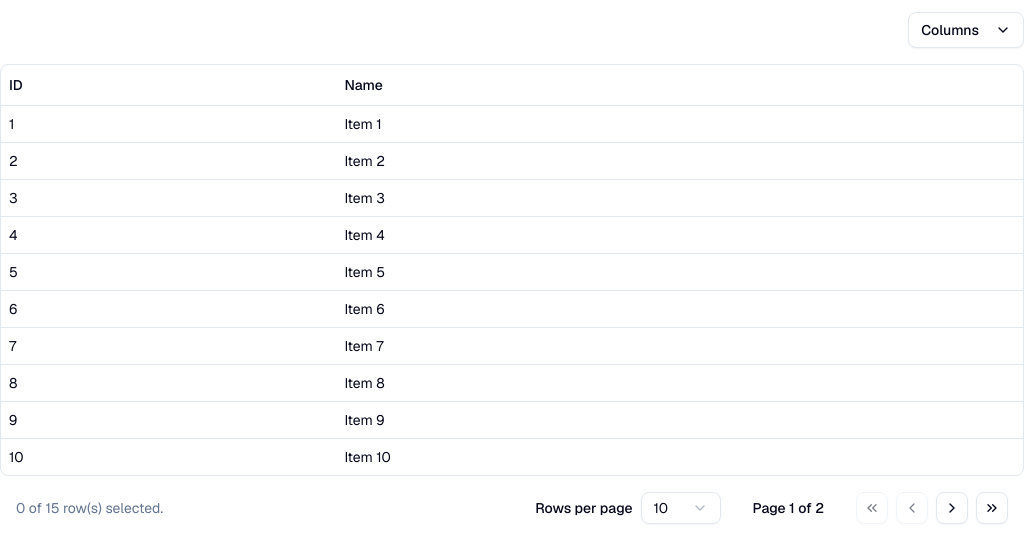
DataTable › pagina os resultados com os controles de primeira/anterior/próxima/última página
The width and height of the screenshot is (1036, 541).
Expected: the text "Page 1 of 2" is shown, x1=753 y1=498 x2=824 y2=518
Expected: the 1st button named "Go to first page" is disabled, x1=856 y1=492 x2=888 y2=524
Click the 3rd button named "Go to next page" at (952, 508), box x1=936 y1=492 x2=968 y2=524
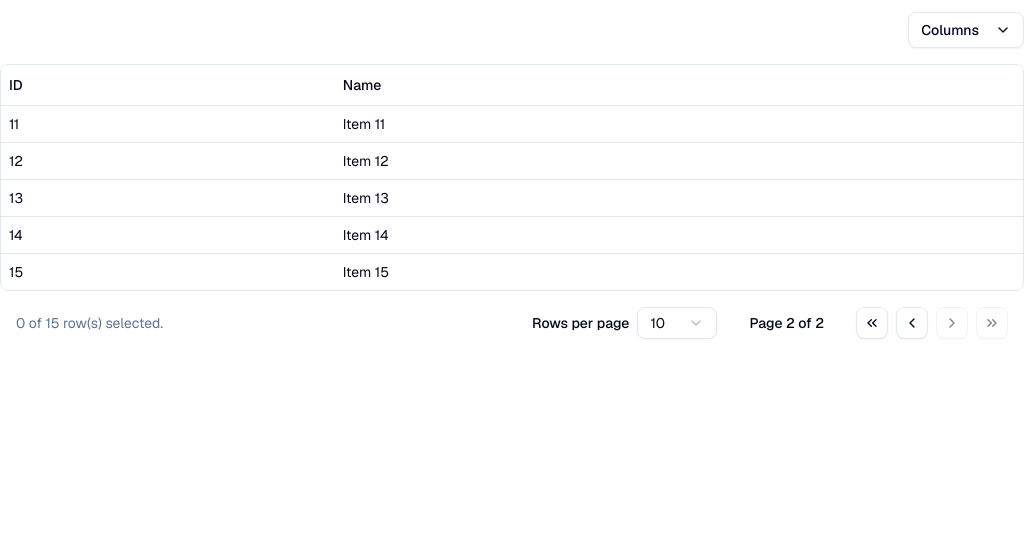
Now the text "Page 2 of 2" is shown, box x1=749 y1=312 x2=824 y2=332
Now the 3rd button named "Go to next page" is disabled, box x1=936 y1=306 x2=968 y2=338
Now the 4th button named "Go to last page" is disabled, box x1=976 y1=306 x2=1008 y2=338
Click the 2nd button named "Go to previous page" at (912, 322), box x1=896 y1=306 x2=928 y2=338
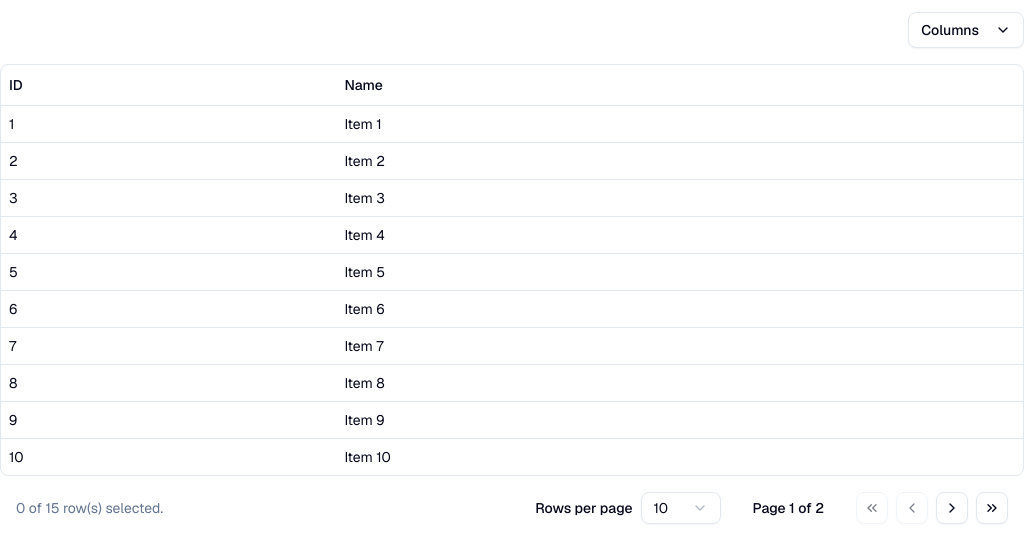
Now the text "Page 1 of 2" is shown, box x1=753 y1=498 x2=824 y2=518
Click the 4th button named "Go to last page" at (992, 508), box x1=976 y1=492 x2=1008 y2=524
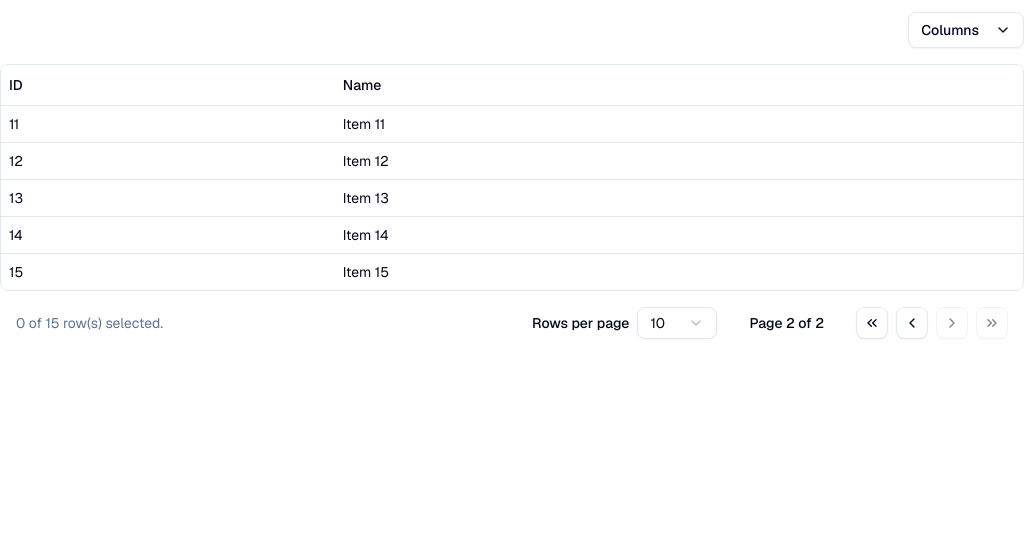
Now the text "Page 2 of 2" is shown, box x1=749 y1=312 x2=824 y2=332
Click the 1st button named "Go to first page" at (872, 322), box x1=856 y1=306 x2=888 y2=338
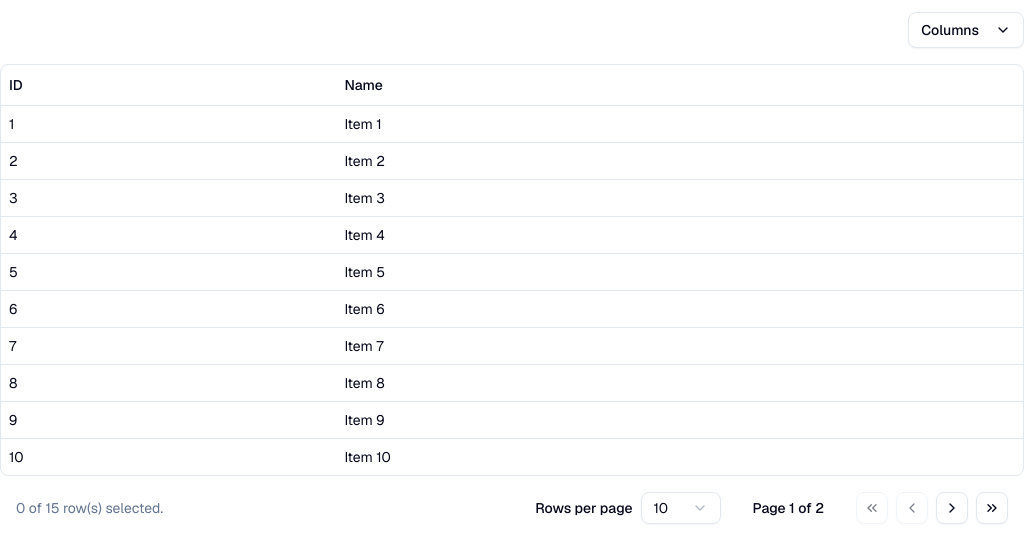
Now the text "Page 1 of 2" is shown, box x1=753 y1=498 x2=824 y2=518
